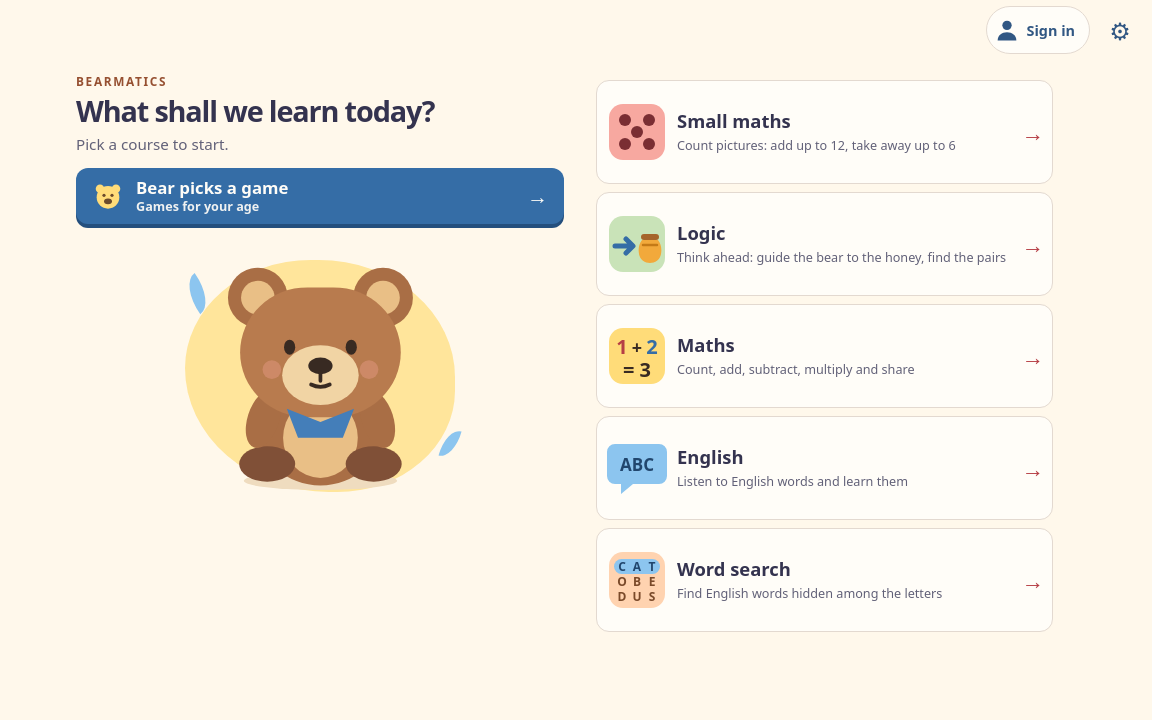
Test: age screen and next-game screen › broken stored data: no age, 5 exercises
This screenshot has width=1152, height=720.
Later steps or results of the test are not shown.
Click the button "Bear picks a game Games for your age →". click: x=108, y=196
box: [76,168,564,224]
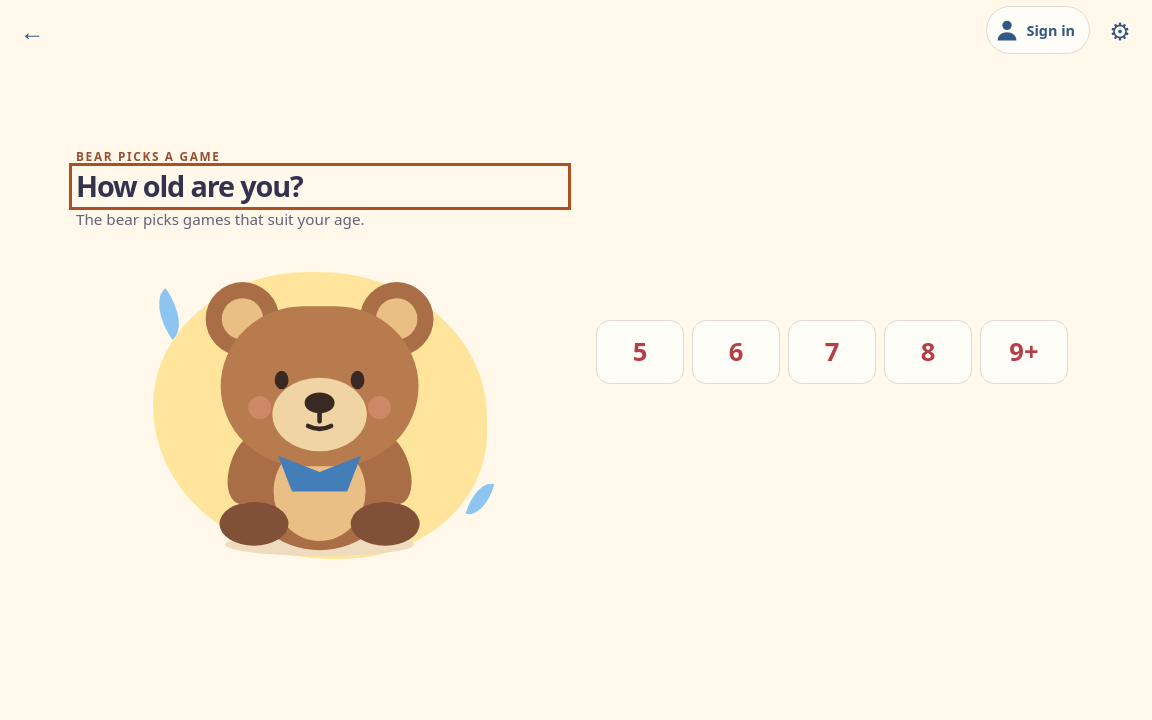
Expected: the heading reads "How old are you?", [76,166,303,205]
Click the button named "5 years". click: x=640, y=352
box: [596,320,684,384]
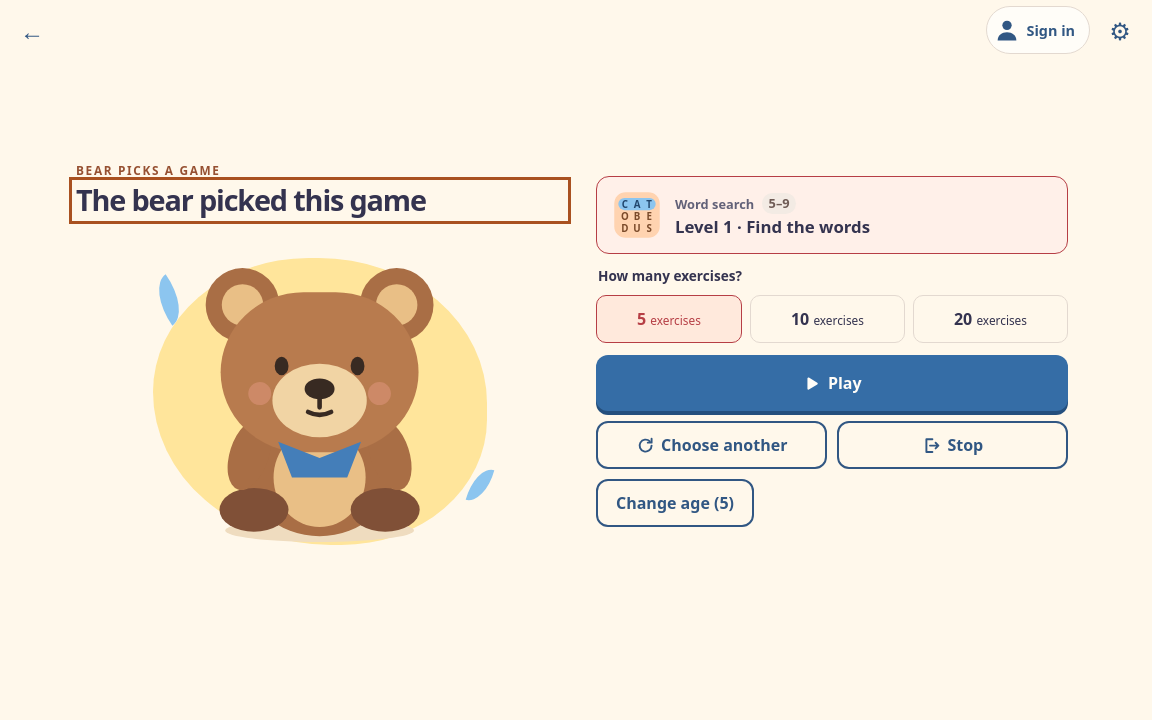
Expected: the radio button labelled "5 exercises" is checked, [596,296,742,344]
